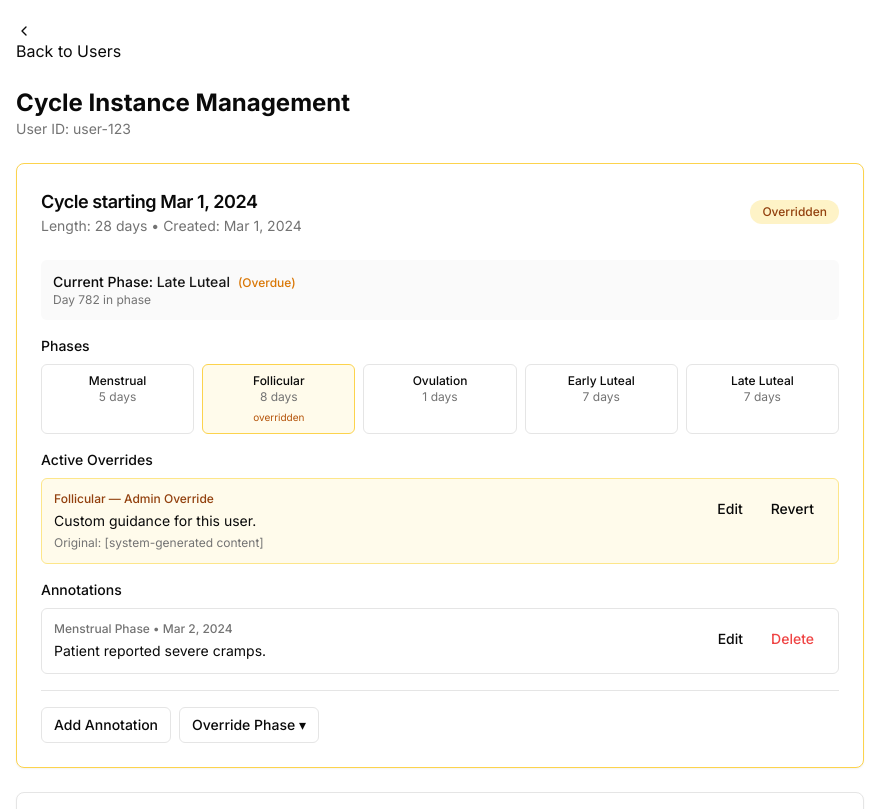
Scenario: AdminCycleManagementPage › submits annotation via API when form is saved (Requirement 6.3)
Click the button with test id "add-annotation-cycle-1". click: (106, 725)
box: [41, 707, 171, 743]
(page scrolled)
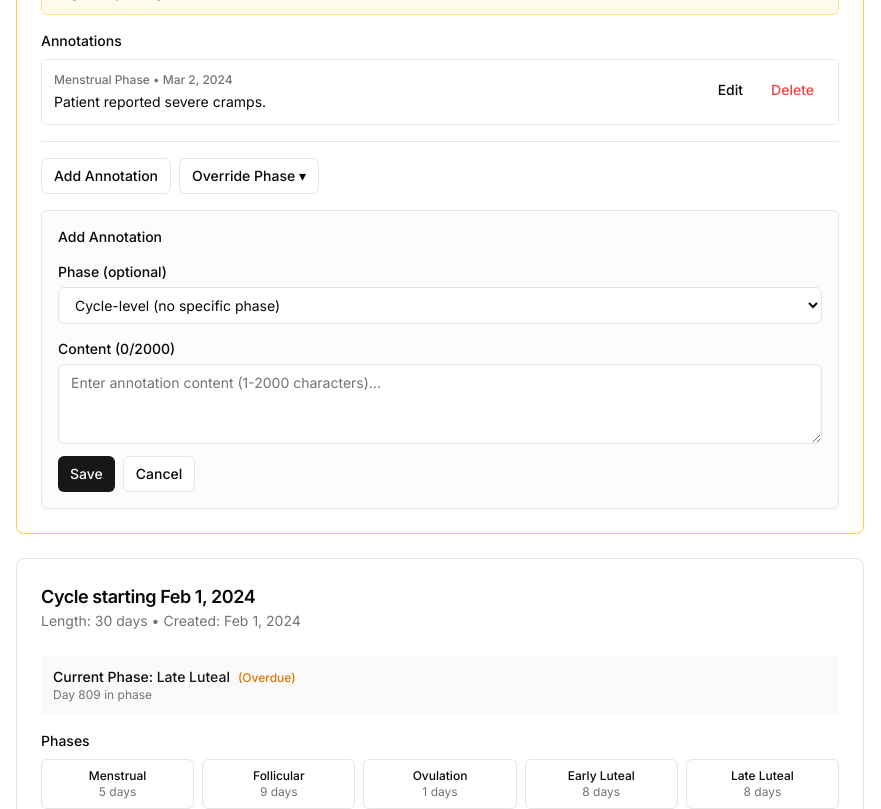
Type "New annotation text" into the text box with placeholder "Enter annotation content (1-2000 characters)...". click: (440, 404)
box: [58, 364, 822, 444]
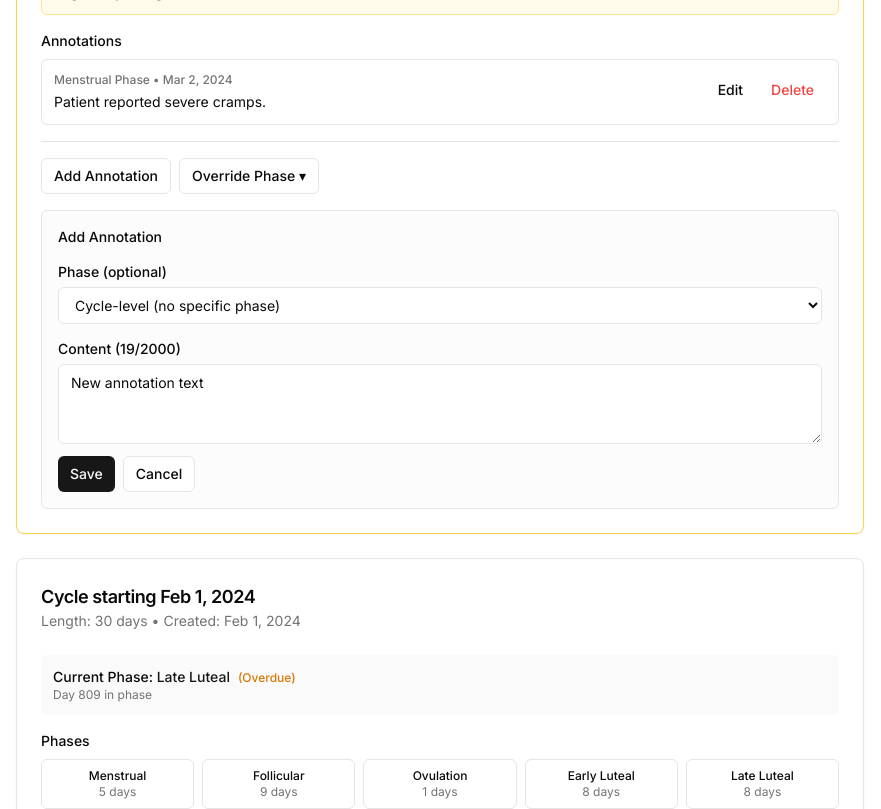
Click the button "Save". click: (86, 474)
box: [58, 456, 115, 492]
(page scrolled)
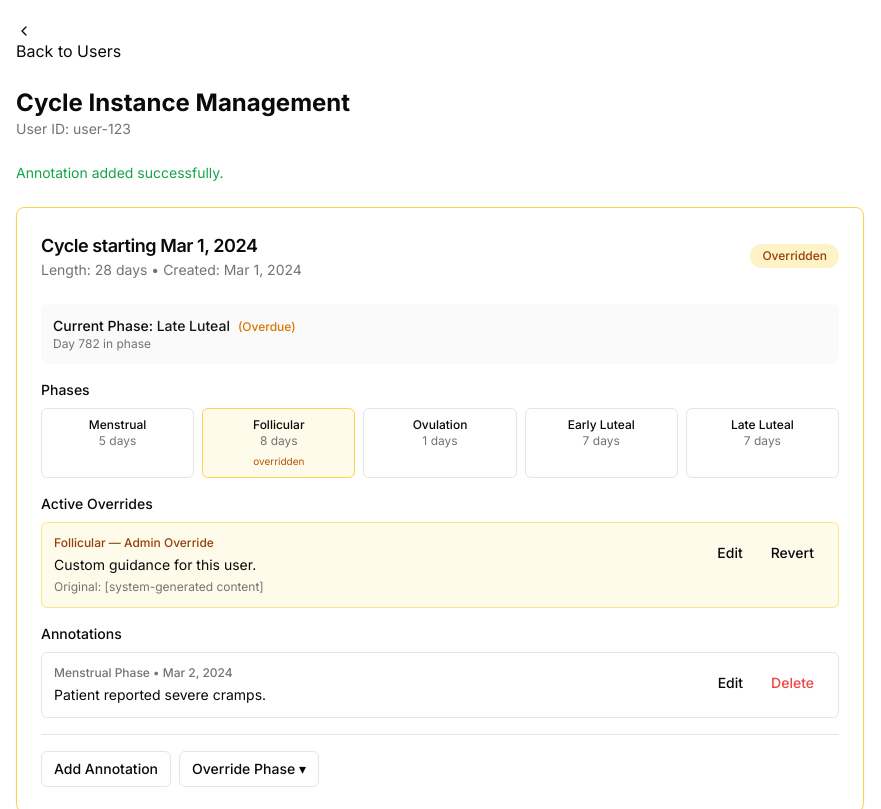
Check: the text "Annotation added successfully." is shown, box [16, 164, 224, 181]
